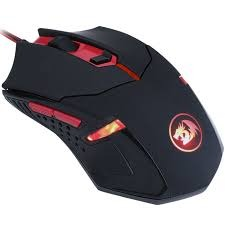mouse: (4, 19, 225, 207)
